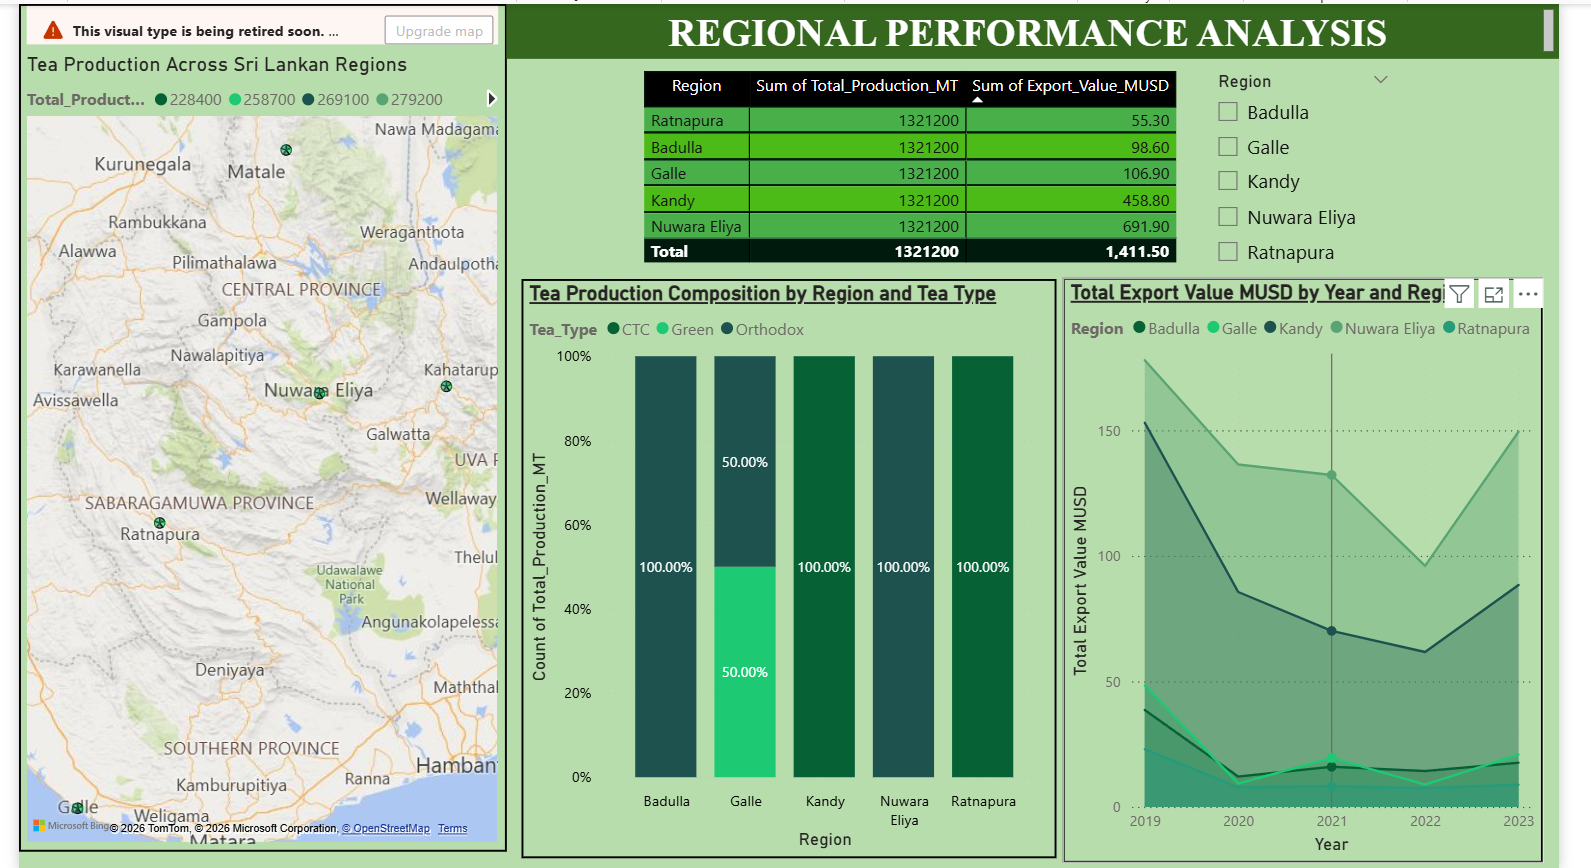

The page's visual inventory and layout, read from the dashboard file:
{"tool":"powerbi","page":{"name":"REGIONAL PERFORMANCE ANALYSIS","canvas":[1280,720],"ordinal":1},"visuals":[{"type":"map","title":"Tea Production Across Sri Lankan Regions","fields":{"Series":["Annual_Summary.Total_Production_MT"],"Category":["Tea_Production_Data.Region"]},"box":[0,0,405.3,705],"z":0},{"type":"tableEx","fields":{"Values":["Tea_Production_Data.Region","Annual_Summary.Total_Production_MT","Sum(Tea_Production_Data.Export_Value_MUSD)"]},"box":[513.4,51,470.7,185],"z":1000},{"type":"hundredPercentStackedColumnChart","title":"Tea Production Composition by Region and Tea Type","fields":{"Category":["Tea_Production_Data.Region"],"Y":["CountNonNull(Annual_Summary.Total_Production_MT)"],"Series":["Tea_Production_Data.Tea_Type"]},"box":[417.3,228.8,444.6,481.4],"z":2000},{"type":"textbox","box":[405.3,0,875.3,45.7],"z":3000},{"type":"areaChart","fields":{"Category":["Tea_Production_Data.Year"],"Series":["Tea_Production_Data.Region"],"Y":["Annual_Summary.Total Export Value MUSD"]},"box":[867.9,227.6,399.6,486.1],"z":4000},{"type":"slicer","fields":{"Values":["Tea_Production_Data.Region"]},"box":[984.1,51,167.2,180.2],"z":5000}]}

Visuals, with their boxes in screenshot pixels (x1, y1, x2, y2):
"Tea Production Across Sri Lankan Regions" map: x1=21, y1=0, x2=501, y2=836
tableEx - Tea_Production_Data.Region x Annual_Summary.Total_Production_MT: x1=630, y1=60, x2=1188, y2=280
"Tea Production Composition by Region and Tea Type" hundredPercentStackedColumnChart: x1=516, y1=271, x2=1043, y2=842
textbox: x1=501, y1=0, x2=1540, y2=54
areaChart - Tea_Production_Data.Year x Tea_Production_Data.Region: x1=1050, y1=270, x2=1524, y2=846
slicer - Tea_Production_Data.Region: x1=1188, y1=60, x2=1386, y2=274
